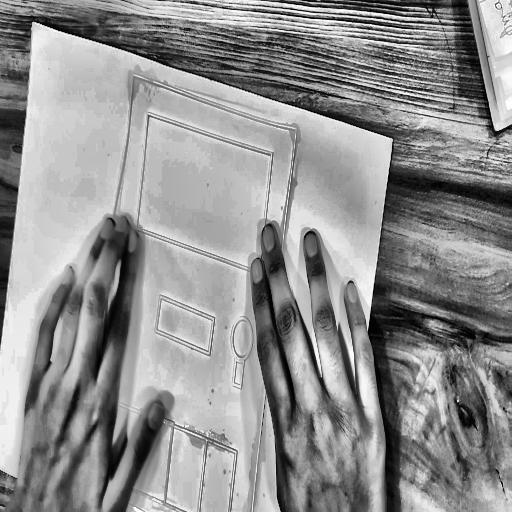door: (70, 67, 316, 512)
top_left: (32, 19, 36, 26)
top_right: (391, 135, 395, 144)
